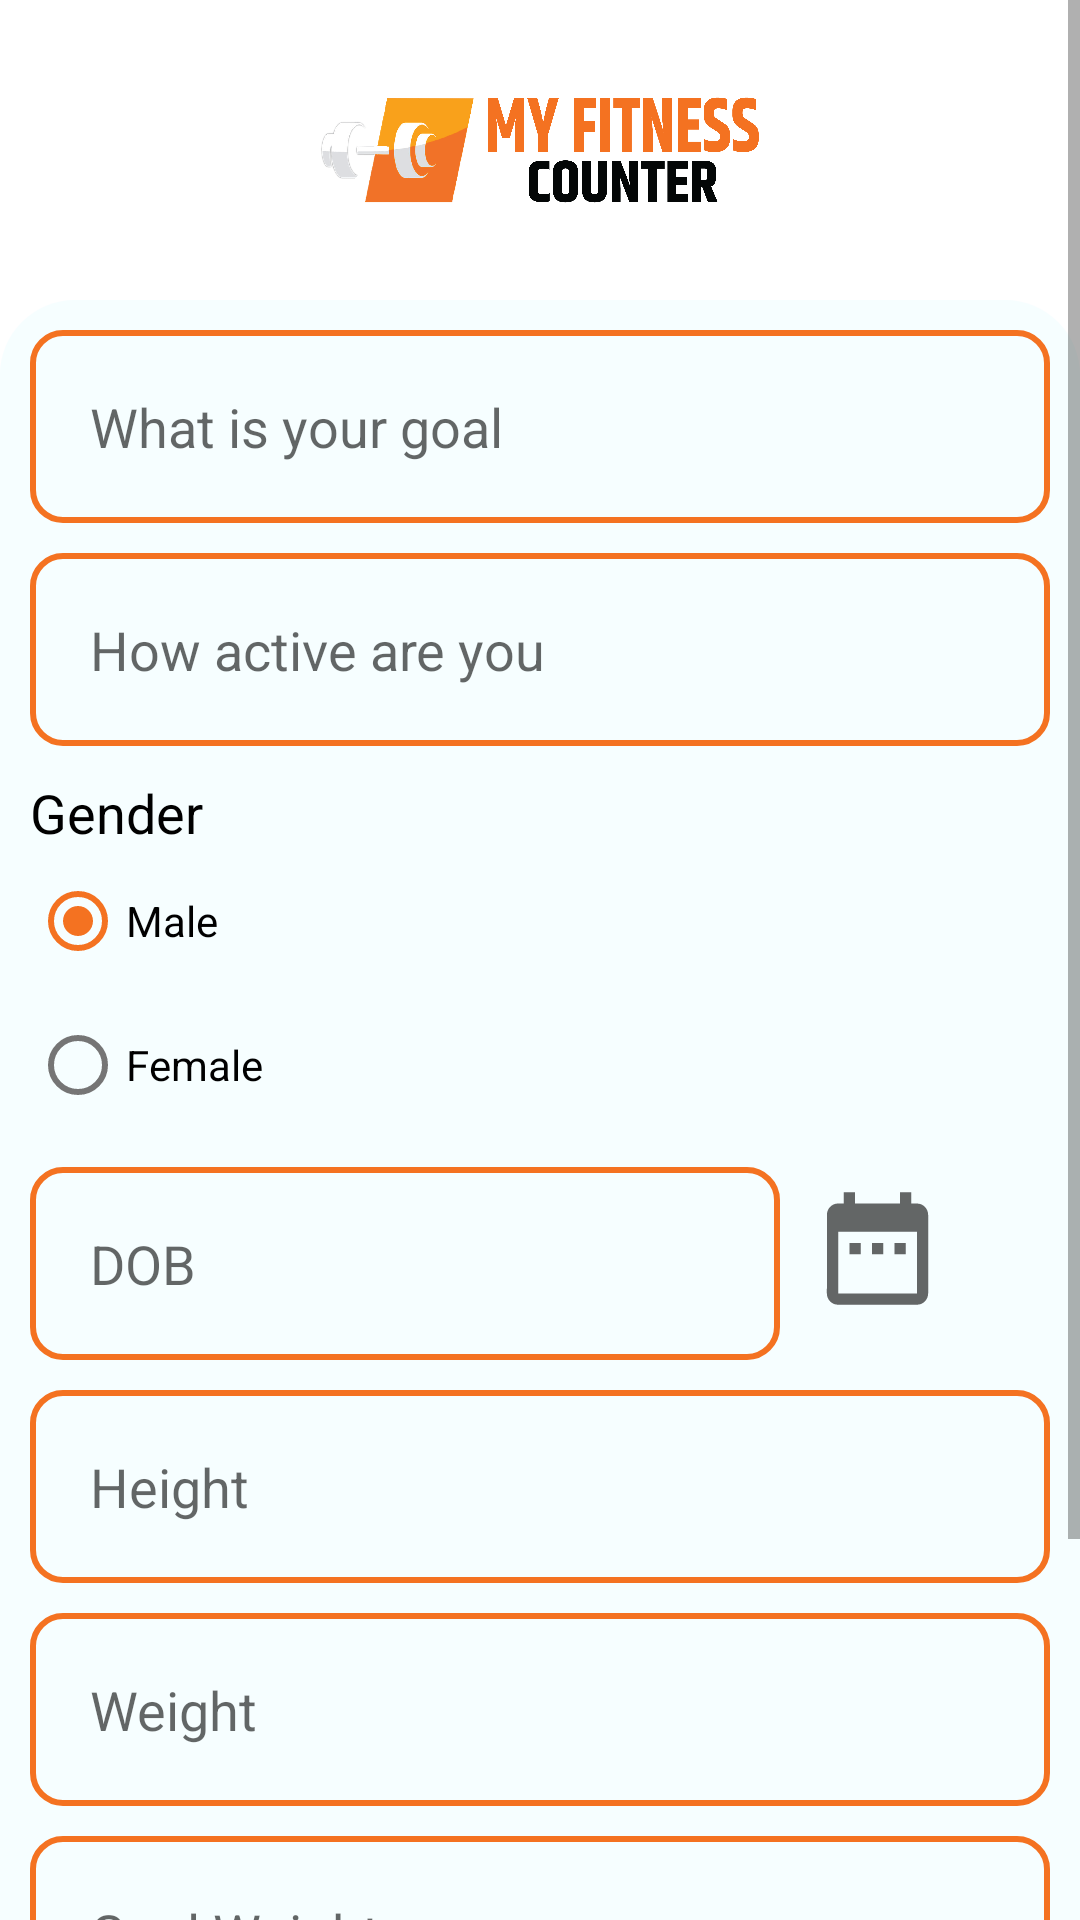

Icon click points for this 1080 x 1920 phone screenshot, format point (x, y):
date picker: point (877, 1248)
